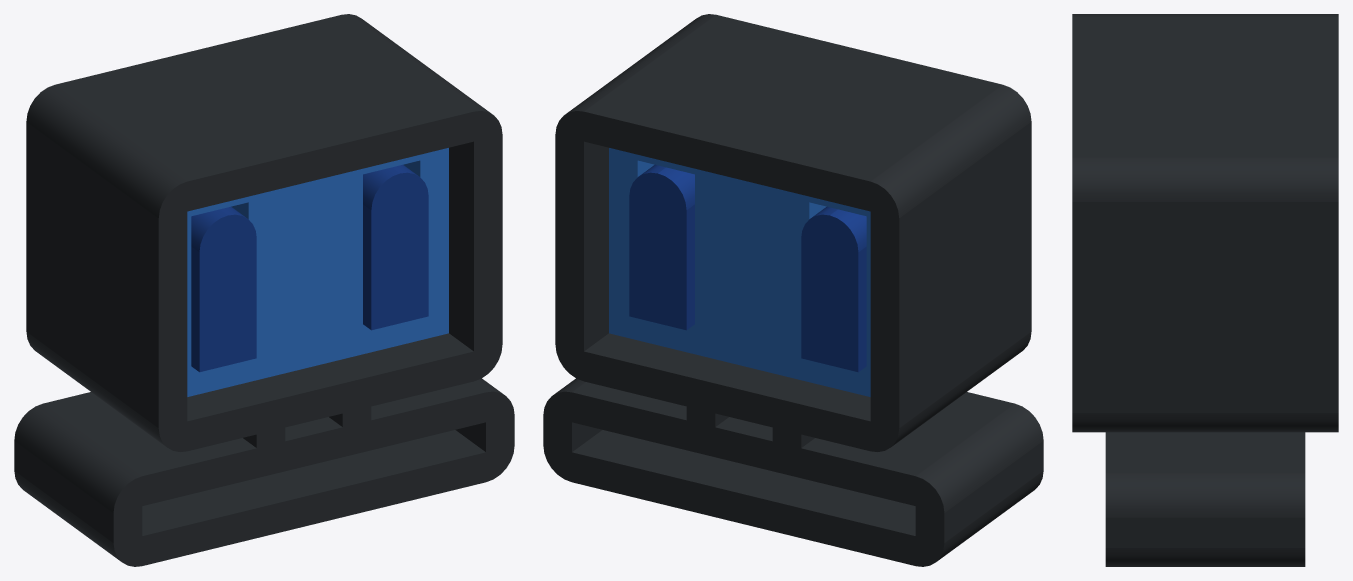
Rendered from TVFront.dae.
The picture shows the model from 3 angles, left to right: view 1: azimuth 30°, elevation 25°; view 2: azimuth 150°, elevation 25°; view 3: azimuth 270°, elevation 25°; orthographic projection.
Parts seen in each view (by area): view 1: generated; view 2: generated; view 3: generated.
Part boxes in pixels (x1,y1,x2,y2): generated: [14, 14, 514, 566]; generated: [543, 14, 1043, 566]; generated: [1072, 14, 1338, 566].
Bounding box in the file's own units: 14 × 13 × 8.
Materials: 1 (1 with a texture image).
